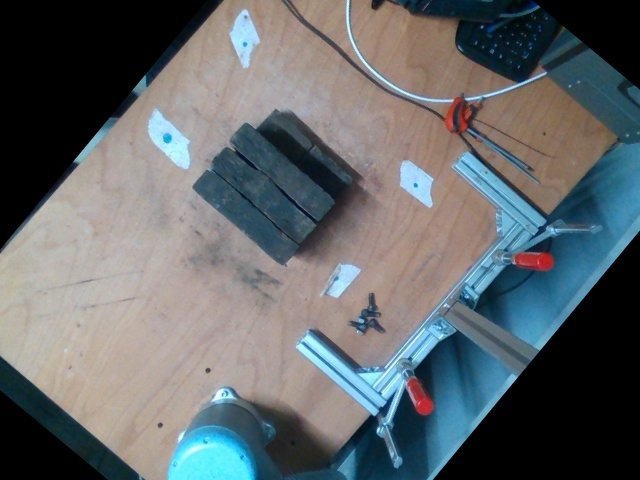brick-side: (190, 167, 300, 265), (229, 121, 335, 220), (207, 146, 315, 242)
